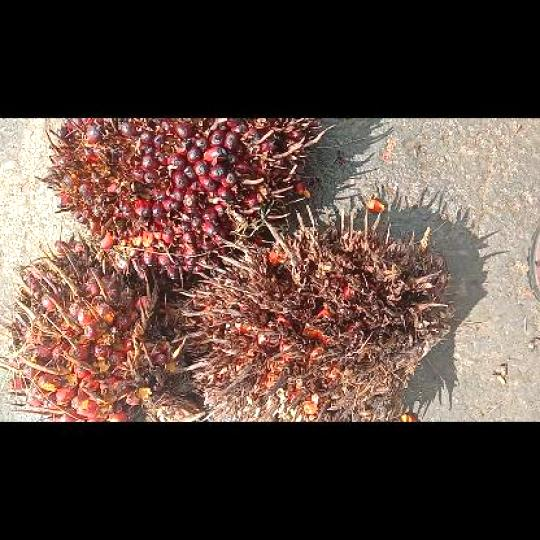masak: (34, 118, 334, 277), (0, 231, 204, 422)
terlalu masak: (171, 205, 447, 421)
